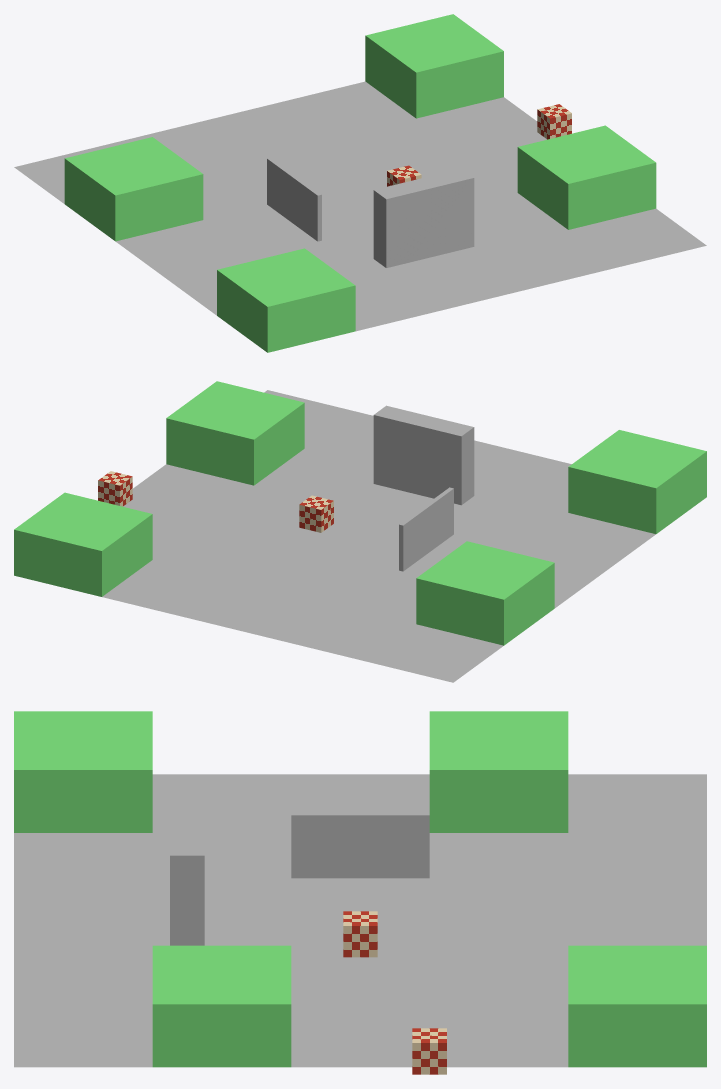
Rendered from MapFixture.gltf.
3 renders of one model, top to bottom at view 1: azimuth 30°, elevation 25°; view 2: azimuth 150°, elevation 25°; view 3: azimuth 270°, elevation 25°, orthographic. The views are drawn at different scales.
Visible parts, largest first — view 1: Floor, BuyZone_CT, BuyZone_T.001, BombSite_A, BombSite_B, Clip_Edge, COL_Wall, Crate_B; view 2: Floor, BuyZone_CT, BuyZone_T.001, BombSite_A, BombSite_B, Clip_Edge, COL_Wall, Crate_A, Crate_B; view 3: Floor, BuyZone_T.001, BombSite_A, BuyZone_CT, BombSite_B, COL_Wall, Clip_Edge, Crate_B, Crate_A.
Boxes of the visible parts, x1,y1,x2,y2 form: Floor: [14, 81, 706, 331]; BuyZone_CT: [64, 137, 203, 241]; BuyZone_T.001: [517, 125, 656, 229]; BombSite_A: [365, 14, 503, 118]; BombSite_B: [217, 248, 355, 352]; Clip_Edge: [373, 168, 474, 267]; COL_Wall: [267, 157, 321, 241]; Crate_B: [537, 104, 571, 139]; Floor: [102, 390, 655, 682]; BuyZone_CT: [416, 541, 554, 645]; BuyZone_T.001: [166, 381, 304, 485]; BombSite_A: [14, 492, 152, 596]; BombSite_B: [568, 430, 706, 533]; Clip_Edge: [373, 405, 474, 505]; COL_Wall: [399, 487, 453, 571]; Crate_A: [299, 495, 333, 532]; Crate_B: [98, 471, 132, 506]; Floor: [14, 774, 706, 1067]; BuyZone_T.001: [152, 945, 291, 1067]; BombSite_A: [568, 945, 706, 1067]; BuyZone_CT: [429, 711, 568, 832]; BombSite_B: [14, 711, 152, 832]; COL_Wall: [291, 812, 429, 878]; Clip_Edge: [170, 797, 204, 945]; Crate_B: [412, 1028, 446, 1074]; Crate_A: [343, 911, 377, 957].
Size of what is drawn, in the model's own units: 20.5 by 4 by 20.
3 materials, 1 textured.
